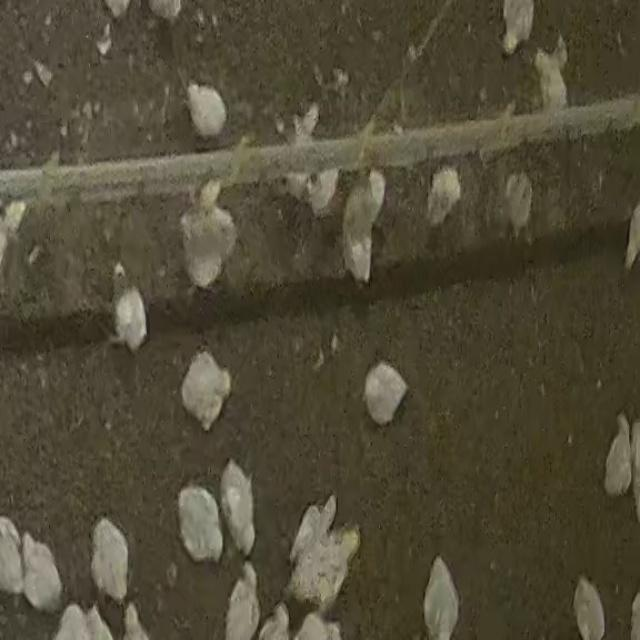chicken: (180, 182, 236, 291), (292, 529, 363, 607), (341, 171, 386, 284), (180, 350, 231, 432), (109, 252, 151, 349), (177, 484, 226, 565), (21, 531, 65, 615), (220, 458, 256, 560), (90, 517, 130, 605), (422, 556, 461, 638), (294, 491, 337, 563), (363, 361, 408, 427), (304, 140, 342, 212), (224, 567, 262, 639), (181, 82, 228, 138), (603, 414, 633, 498), (532, 44, 568, 110), (425, 166, 462, 227), (0, 518, 27, 600), (572, 575, 607, 637), (503, 172, 535, 239), (500, 0, 535, 53)
